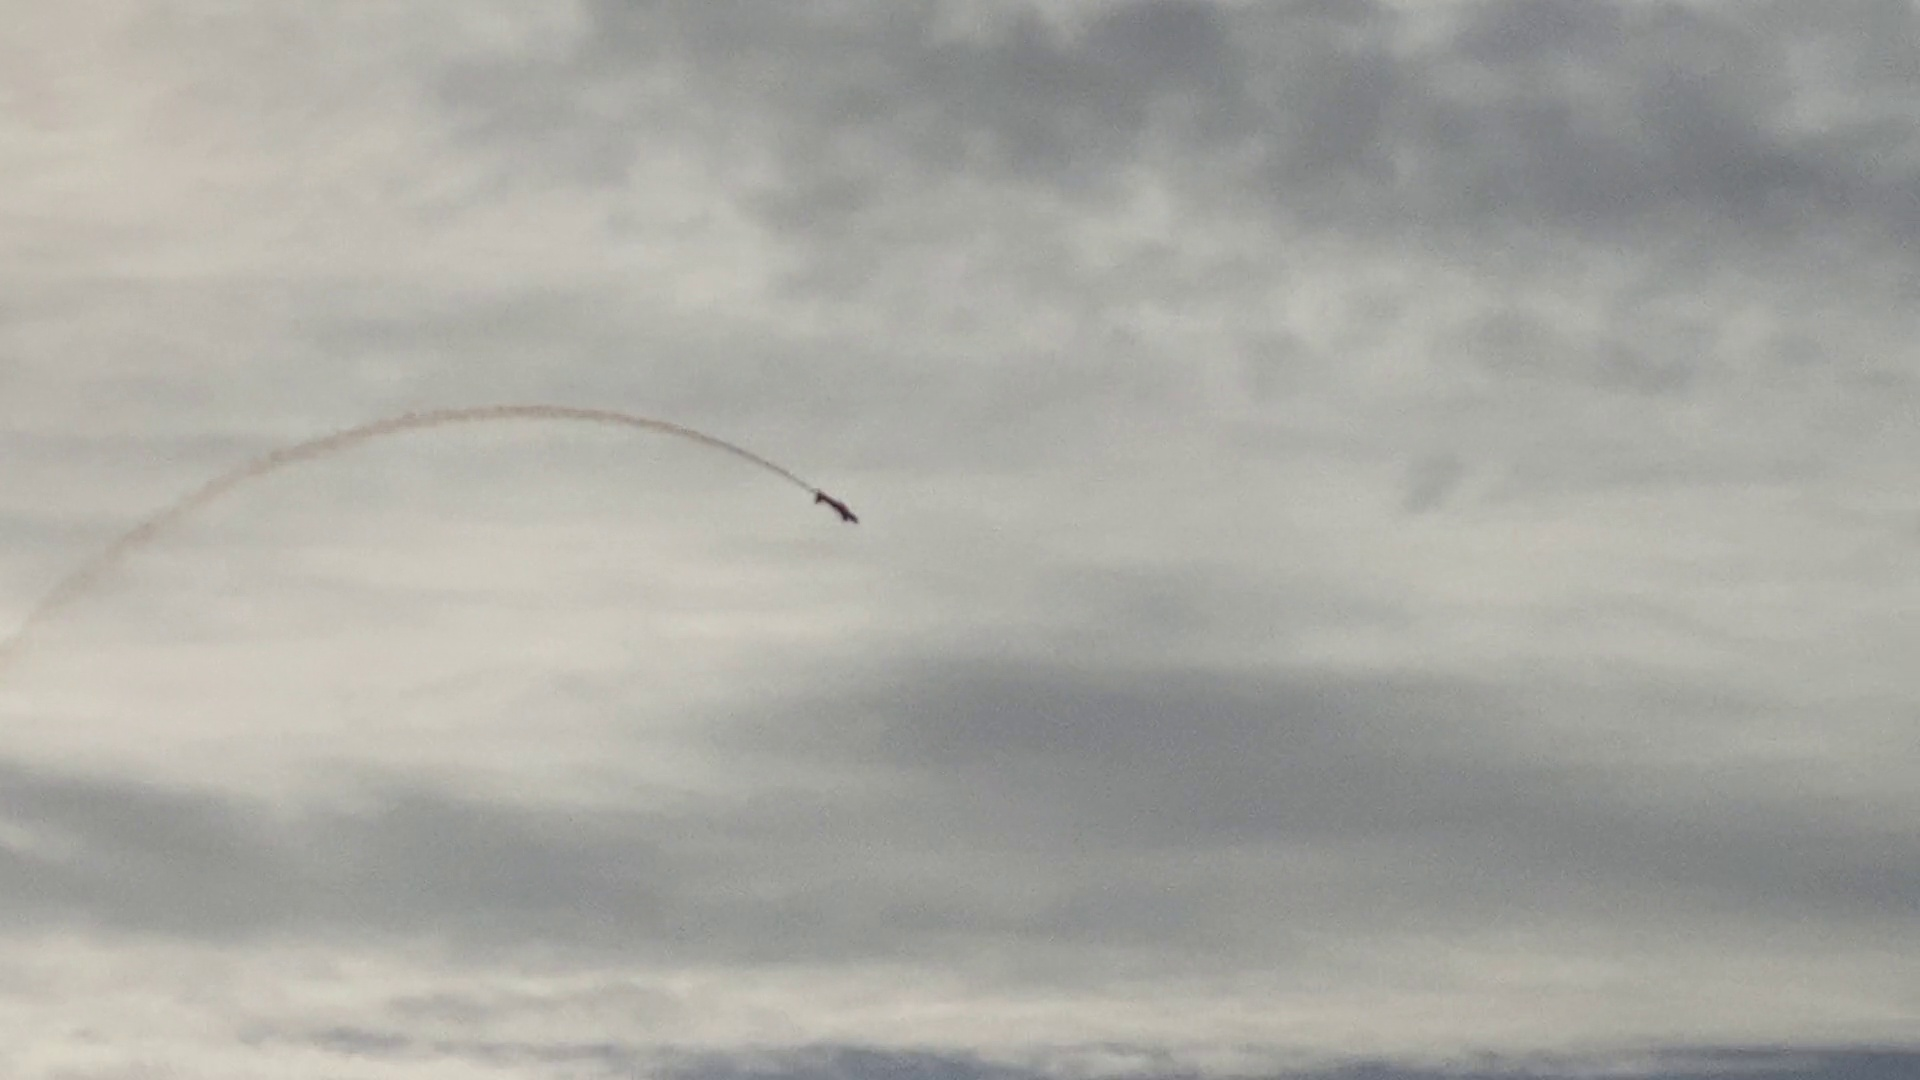plane: (814, 485, 858, 526)
